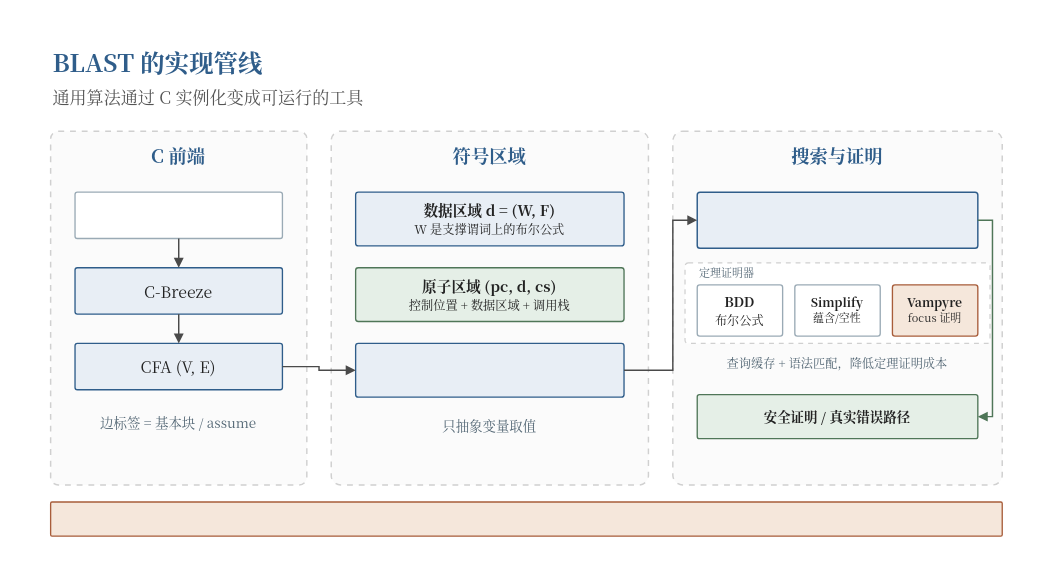
This 1052x566 diagram has some shape labels left out. The shapes that lost their labels are listed below. From the top down, each one's centre as x and y in pixels, then its label:
At point 178,215: "C 源程序".
At point 837,219: "LazyAbstraction 搜索树 + 反例分析 + 局部精化".
At point 489,369: "区域 = 有限个原子区域 控制与调用栈不经过谓词抽象".
At point 525,518: "谓词语言：未解释函数等式 + 整数加法；乘法与指针算术按保守方式近似。".
